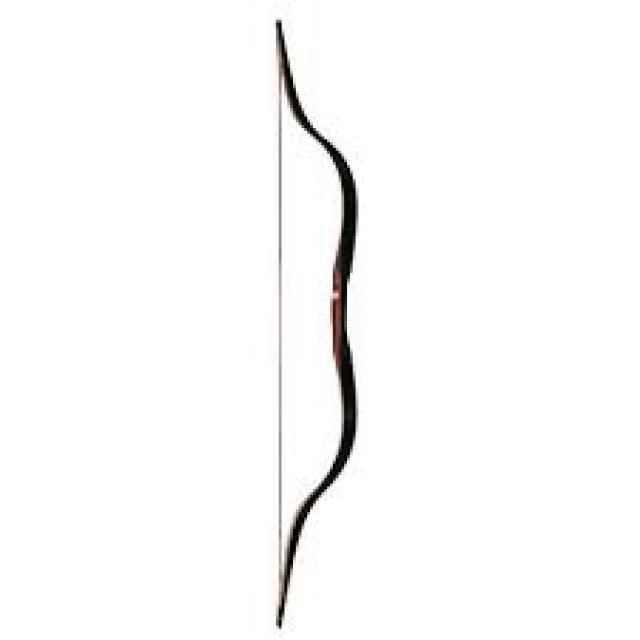X-Bow: (268, 17, 364, 629)
